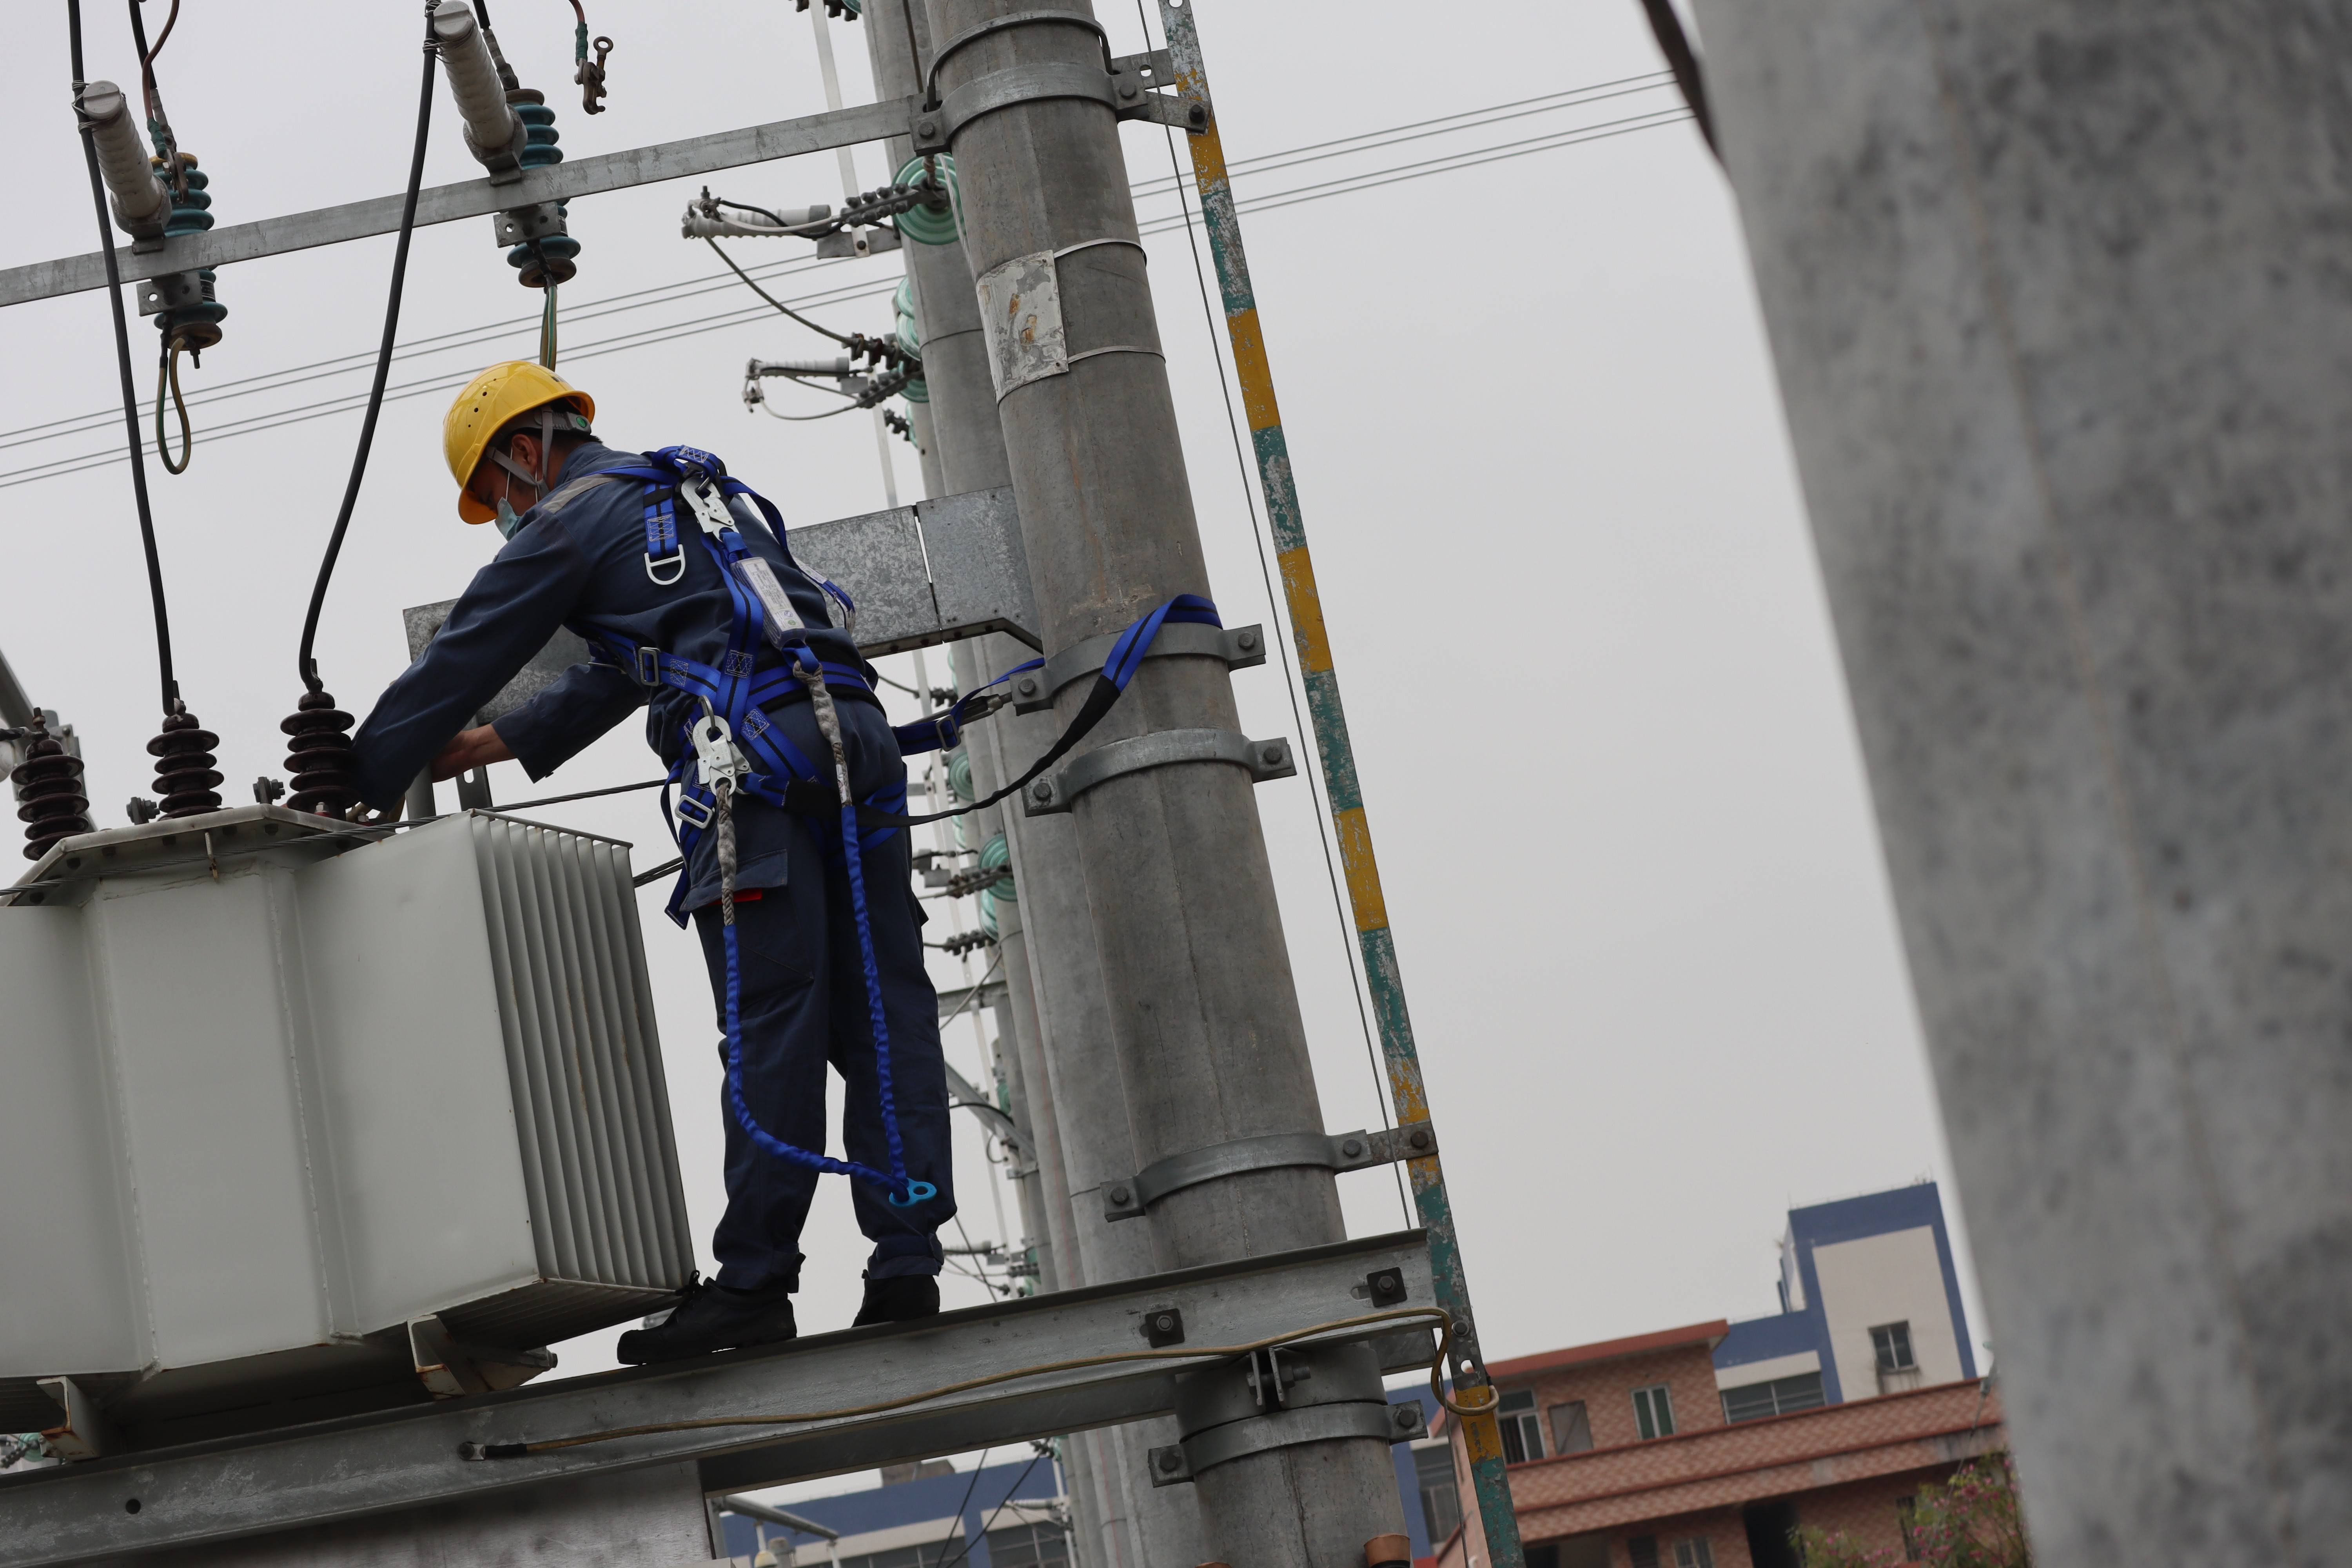downsuit: (702, 730, 949, 1277)
upsuit: (361, 445, 882, 726)
